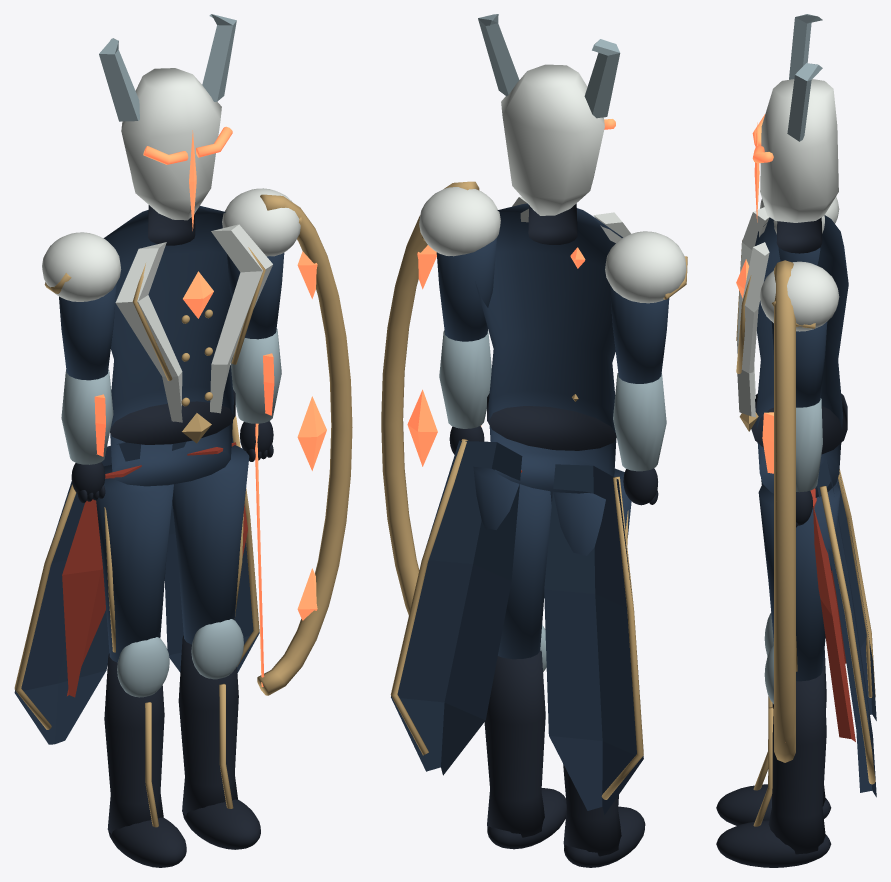
File: oracle.glb
3 views of the same model, side by side, from view 1: azimuth 30°, elevation 25°; view 2: azimuth 150°, elevation 25°; view 3: azimuth 270°, elevation 25° (orthographic). The views are drawn at different scales.
Visible parts, largest first — view 1: belt clasp, coat lining, crown horn, bow crystal, boot gold rail, boot gold rail.001, fitted trousers, fitted trousers.001, pauldron.001, shoulder edge.001, finger.001, coat lining.001 (+1 smaller); view 2: belt clasp, coat lining.001, coat lining, crown horn, boot gold rail.001, bow crystal, pauldron.001, shoulder edge.001, fitted trousers.001, finger.001, finger.005, boot gold rail (+1 smaller); view 3: belt clasp, crown horn, boot gold rail.001, bow crystal, coat lining.001, fitted trousers.001, shoulder edge.001, finger.005, coat lining, boot gold rail, pauldron.001.
Part boxes in pixels (x1,y1,x2,y2): belt clasp: (103, 205, 272, 486); coat lining: (14, 442, 141, 744); crown horn: (99, 14, 236, 230); bow crystal: (255, 194, 352, 695); boot gold rail: (104, 637, 186, 867); boot gold rail.001: (178, 619, 260, 849); fitted trousers: (96, 465, 173, 662); fitted trousers.001: (172, 445, 249, 644); pauldron.001: (42, 232, 121, 380); shoulder edge.001: (222, 188, 302, 339); finger.001: (61, 369, 113, 503); coat lining.001: (164, 416, 259, 673); belt clasp: (475, 196, 630, 493); coat lining.001: (390, 439, 522, 775); coat lining: (544, 464, 643, 814); crown horn: (478, 14, 620, 215); boot gold rail.001: (484, 624, 566, 849); bow crystal: (381, 181, 481, 615); pauldron.001: (605, 231, 687, 383); shoulder edge.001: (419, 187, 500, 341); fitted trousers.001: (473, 466, 551, 659); finger.001: (613, 373, 666, 505); finger.005: (439, 330, 491, 454); boot gold rail: (563, 764, 645, 867); belt clasp: (736, 207, 848, 497); crown horn: (752, 14, 838, 222); boot gold rail.001: (716, 645, 831, 867); bow crystal: (774, 260, 795, 762); coat lining.001: (810, 459, 876, 797); fitted trousers.001: (758, 484, 840, 681); shoulder edge.001: (759, 261, 839, 407); finger.005: (762, 398, 822, 527); coat lining: (831, 469, 876, 720); boot gold rail: (716, 612, 831, 825); pauldron.001: (760, 196, 839, 265).
Bounding box in the file's own units: 0.904 × 2.35 × 0.424.
